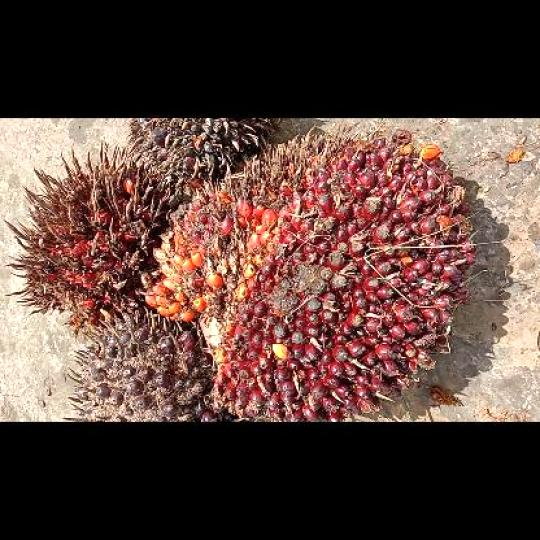kurang masak: (67, 306, 213, 421)
masak: (144, 121, 482, 422)
terlalu masak: (3, 144, 184, 334)
